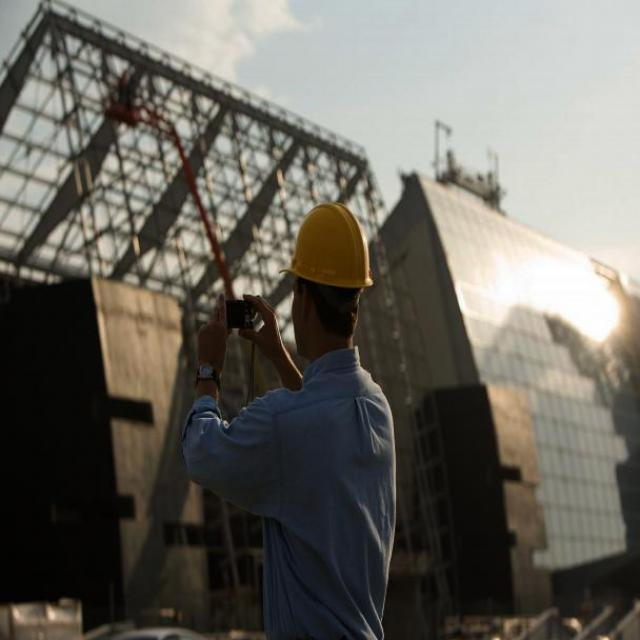helmet: (268, 202, 377, 369)
